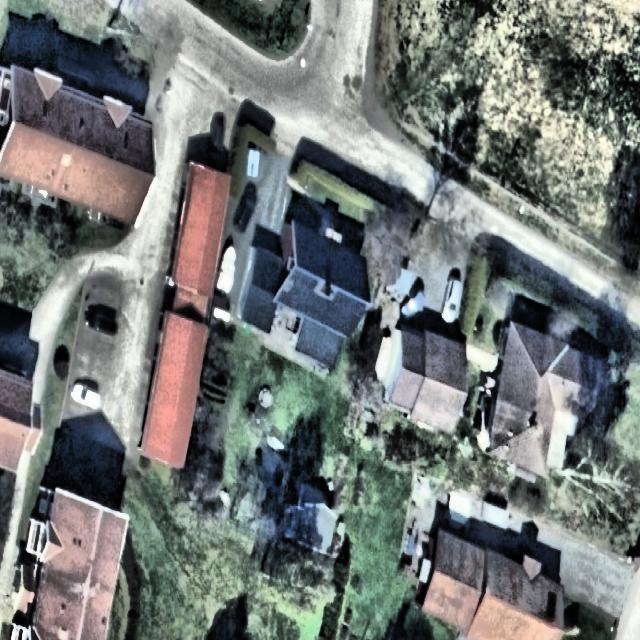roof_pv: (280, 271, 316, 318), (333, 292, 365, 341), (308, 298, 337, 325)
